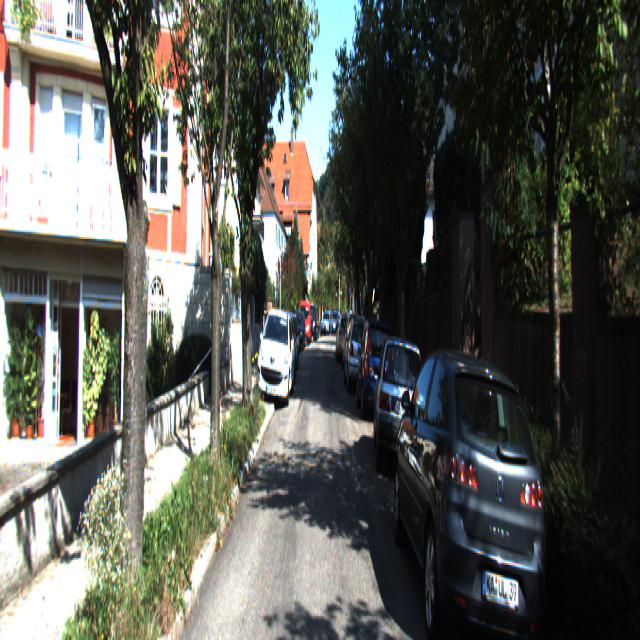Car: (390, 336, 560, 638), (373, 329, 429, 495), (356, 310, 396, 424), (257, 306, 295, 410), (344, 315, 375, 400), (335, 312, 355, 366), (298, 301, 312, 348)
